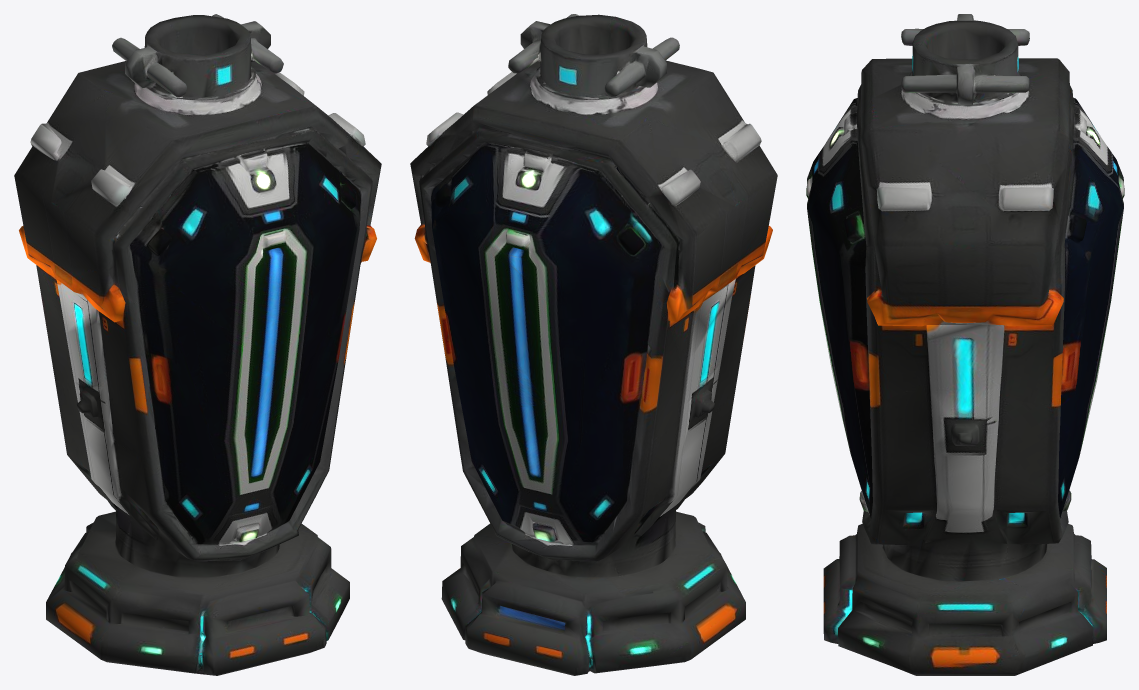
File: loot_drop_capsule.glb
3 renders of one model, left to right at view 1: azimuth 30°, elevation 25°; view 2: azimuth 150°, elevation 25°; view 3: azimuth 270°, elevation 25°, orthographic.
Bounding box in the file's own units: 0.9878 × 1.9 × 0.9472.
1 material, 1 textured.
